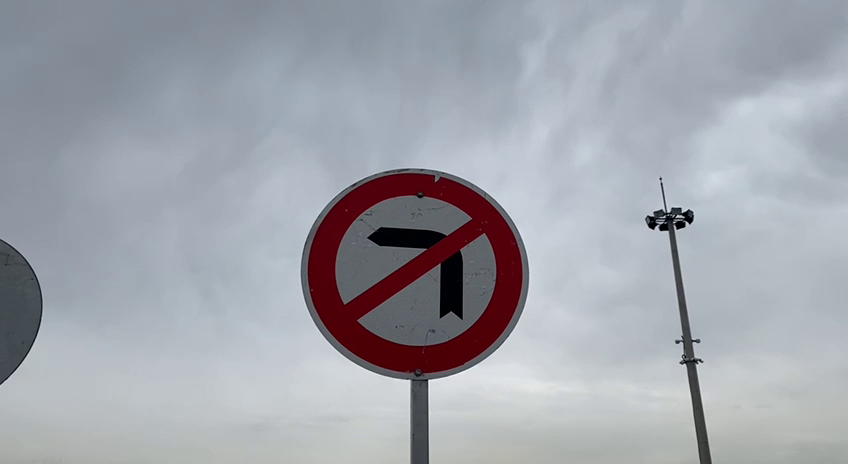noTurnLeft: (294, 162, 535, 385)
